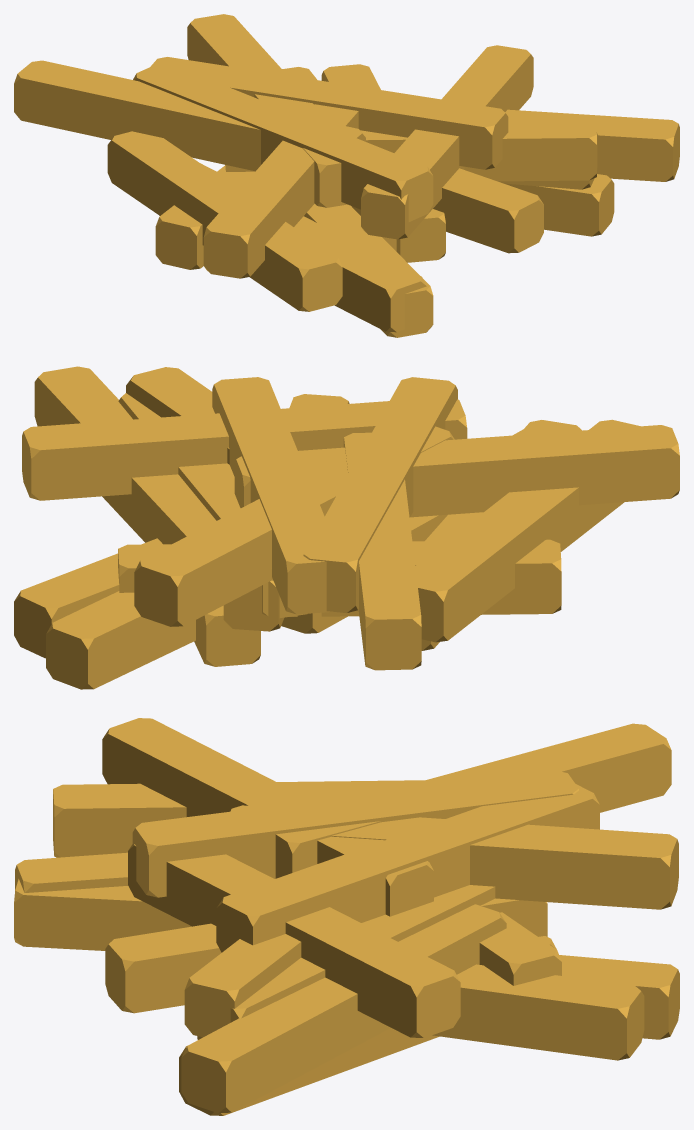
Rendered from Fries_Portion.glb.
The picture shows the model from 3 angles, top to bottom: view 1: azimuth 30°, elevation 25°; view 2: azimuth 150°, elevation 25°; view 3: azimuth 270°, elevation 25°; orthographic projection. The views are drawn at different scales.
Parts seen in each view (by area): view 1: Fries_Portion; view 2: Fries_Portion; view 3: Fries_Portion.
Part boxes in pixels (x1,y1,x2,y2): Fries_Portion: (14, 14, 679, 337); Fries_Portion: (14, 366, 679, 689); Fries_Portion: (14, 718, 679, 1115).
Bounding box in the file's own units: 0.1504 × 0.0343 × 0.1401.
